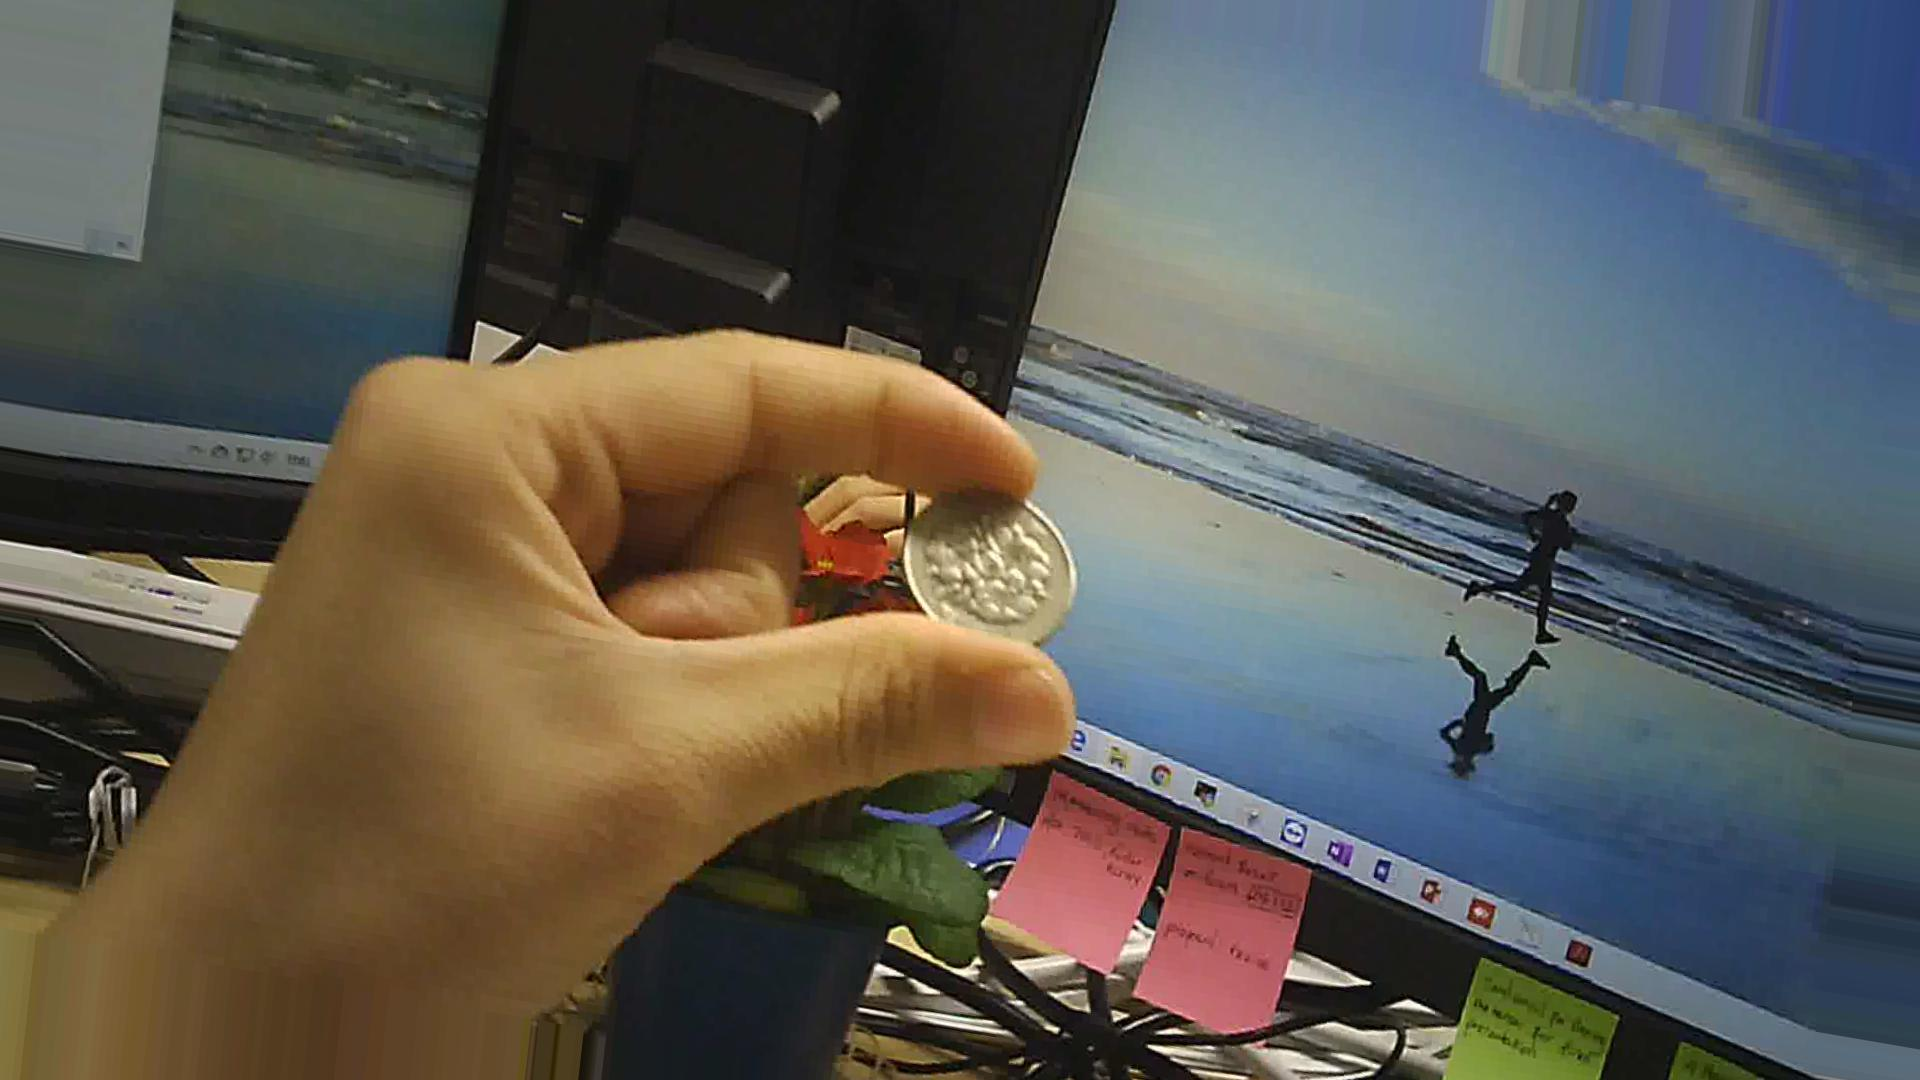100 Yen: (894, 484, 1088, 665)
